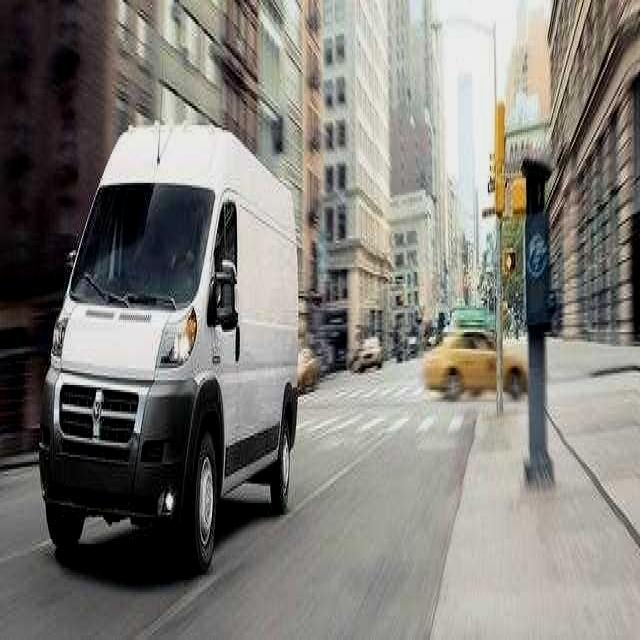Car: (419, 315, 538, 413), (351, 329, 387, 382)
Van: (21, 100, 306, 576)
